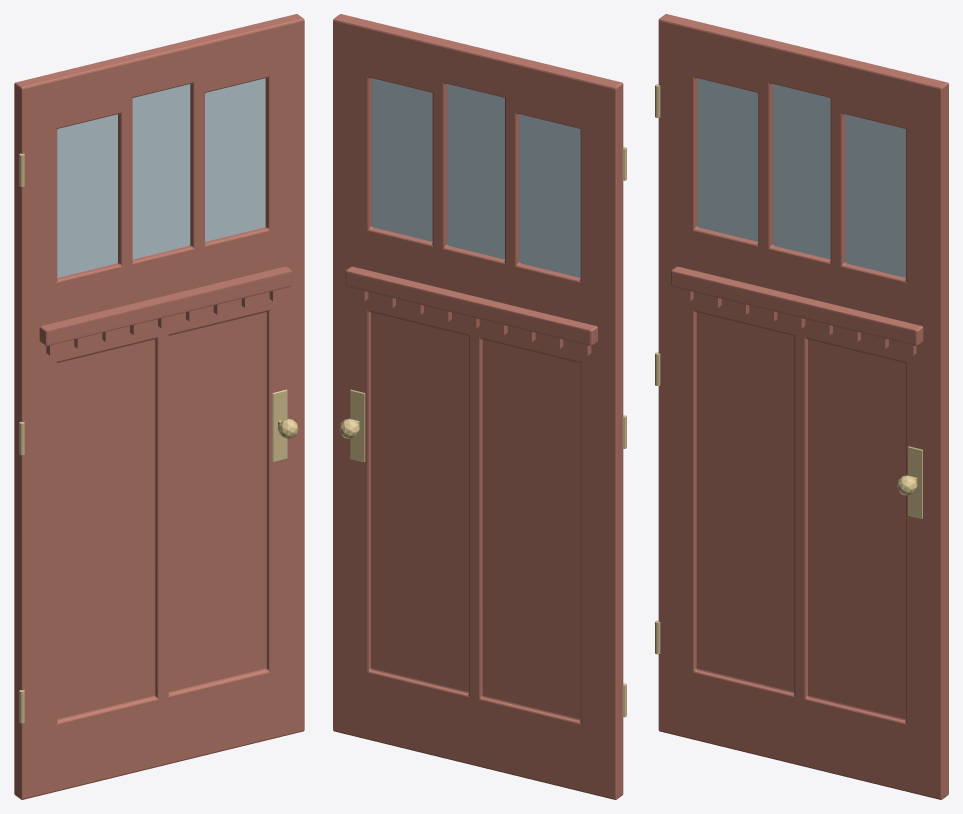
The model's file is door_leaf_front.glb.
3 views of the same model, side by side, from view 1: azimuth 30°, elevation 25°; view 2: azimuth 150°, elevation 25°; view 3: azimuth 330°, elevation 25° (orthographic).
Visible parts, largest first — view 1: door_leaf_front_door, door_leaf_front_glass, door_leaf_front_brass; view 2: door_leaf_front_door, door_leaf_front_glass, door_leaf_front_brass; view 3: door_leaf_front_door, door_leaf_front_glass, door_leaf_front_brass.
Boxes of the visible parts, <box> form: door_leaf_front_door: <box>14,14,304,799</box>; door_leaf_front_glass: <box>57,78,265,277</box>; door_leaf_front_brass: <box>19,153,298,723</box>; door_leaf_front_door: <box>333,14,623,799</box>; door_leaf_front_glass: <box>372,78,580,277</box>; door_leaf_front_brass: <box>339,147,626,717</box>; door_leaf_front_door: <box>658,14,948,799</box>; door_leaf_front_glass: <box>697,78,905,277</box>; door_leaf_front_brass: <box>655,84,922,654</box>.
Size of the model in its own units: 0.948 by 2.26 by 0.205.
